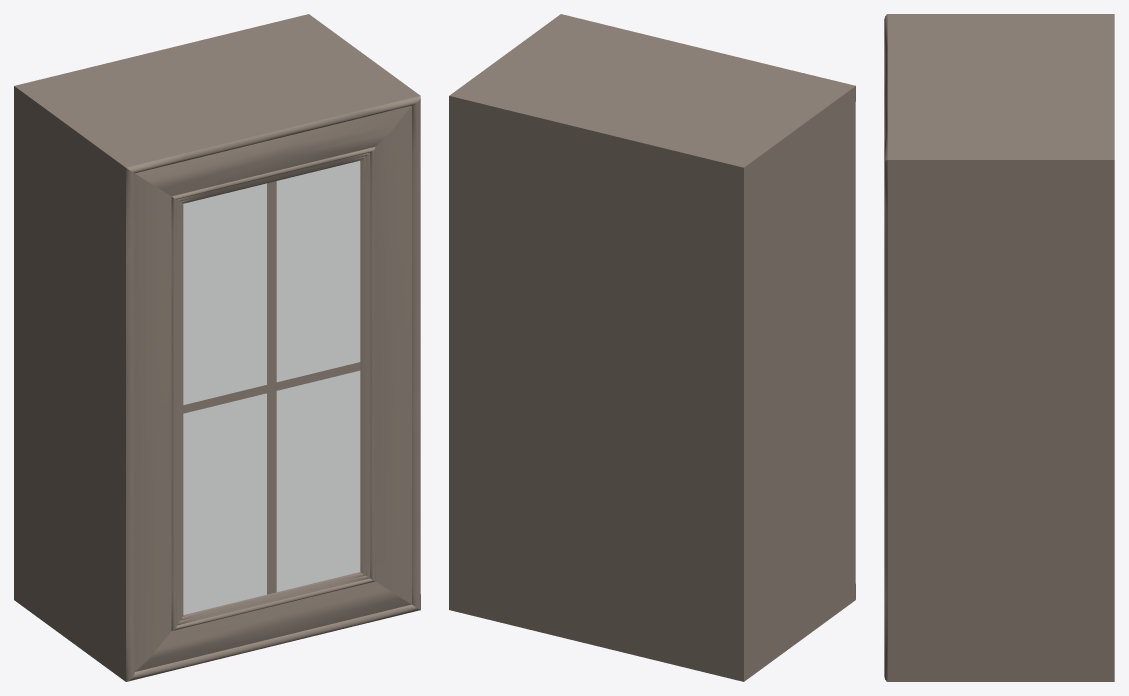
Rendered from Wall-Cabinet-with-Doors-Prepped-for-Glass_std_001_W18in.glb.
3 renders of one model, left to right at view 1: azimuth 30°, elevation 25°; view 2: azimuth 150°, elevation 25°; view 3: azimuth 270°, elevation 25°, orthographic.
Visible parts, largest first — view 1: Wall-Cabinet-with-Doors-Prepped-for-Glass.std.001_W18in; view 2: Wall-Cabinet-with-Doors-Prepped-for-Glass.std.001_W18in; view 3: Wall-Cabinet-with-Doors-Prepped-for-Glass.std.001_W18in.
Part boxes in pixels (left/top/right/bottom): Wall-Cabinet-with-Doors-Prepped-for-Glass.std.001_W18in: left=14, top=14, right=420, bottom=681; Wall-Cabinet-with-Doors-Prepped-for-Glass.std.001_W18in: left=449, top=14, right=855, bottom=681; Wall-Cabinet-with-Doors-Prepped-for-Glass.std.001_W18in: left=884, top=14, right=1114, bottom=681.
Bounding box in the file's own units: 0.4572 × 0.762 × 0.3048.
